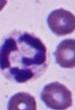N: (0, 30, 49, 85)
